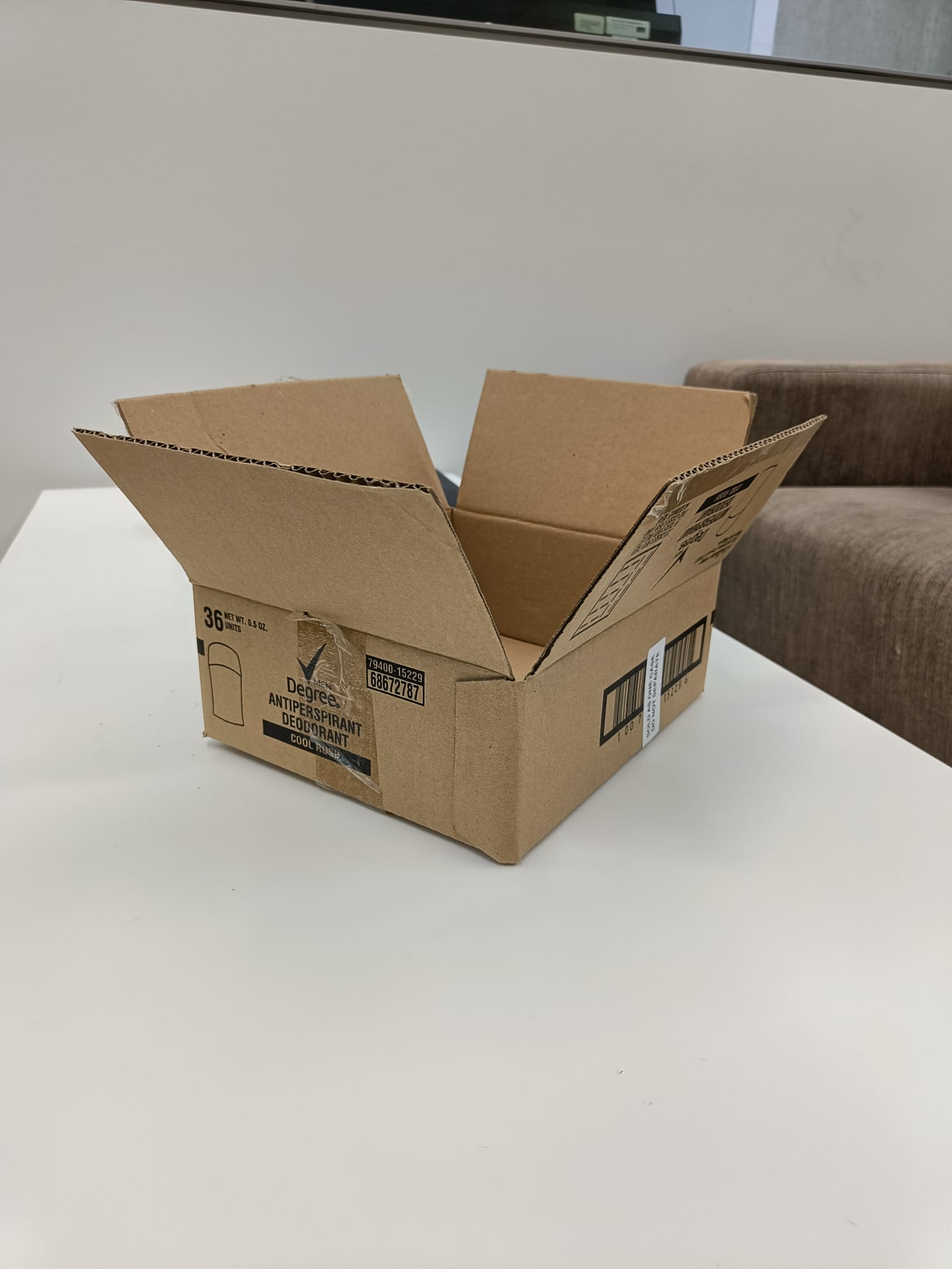box: (69, 357, 830, 873)
crushed: (72, 356, 832, 674)
